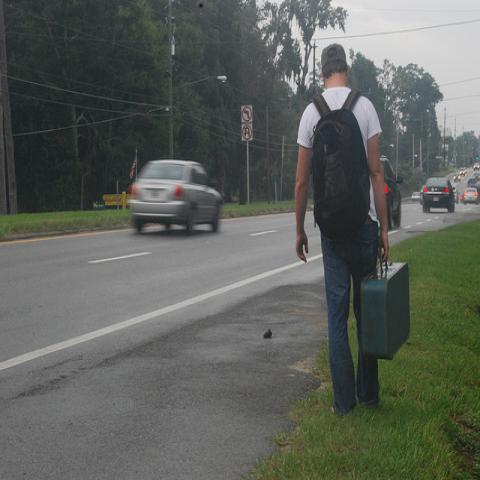car: (128, 161, 223, 231), (380, 156, 404, 228), (422, 178, 454, 211), (463, 187, 479, 206), (453, 187, 460, 205), (411, 192, 420, 202), (453, 174, 460, 182), (473, 172, 480, 180), (473, 162, 479, 171), (460, 168, 466, 176), (460, 194, 463, 203)
